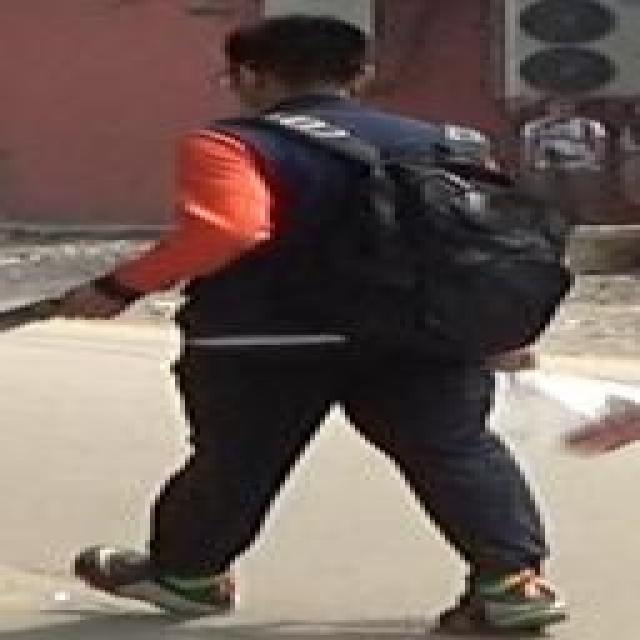child: (22, 19, 588, 620)
